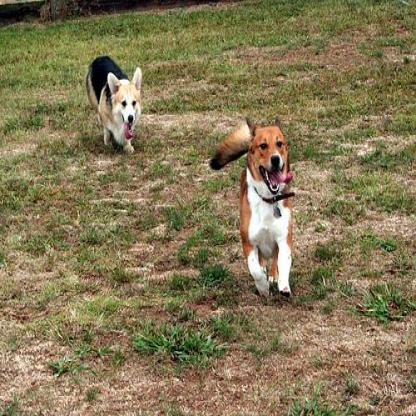Cardigan: (207, 117, 300, 300), (84, 53, 141, 154)
